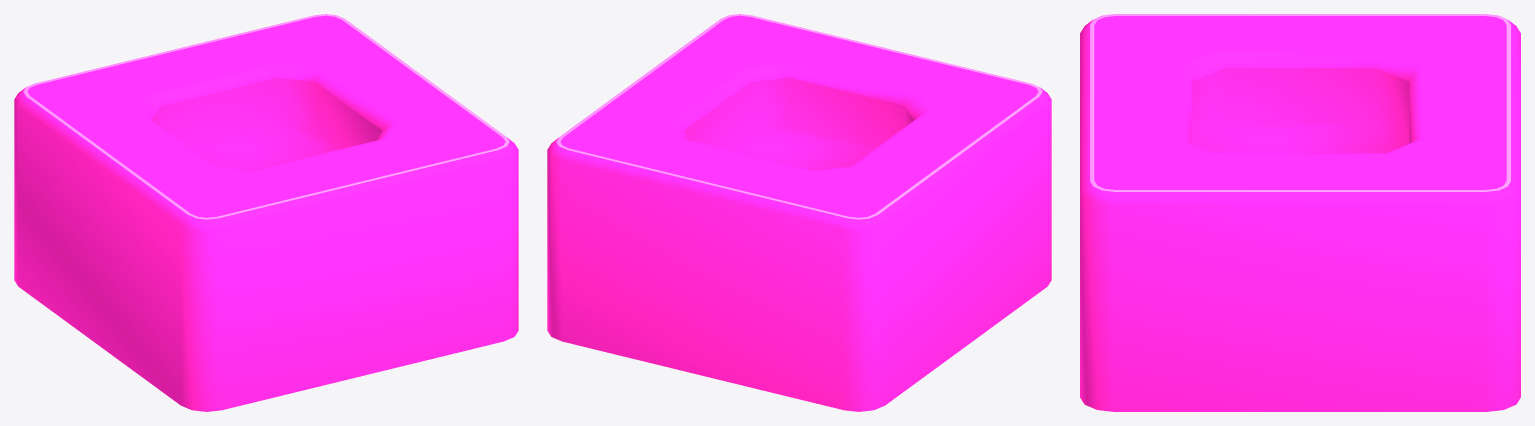
The model's file is cell_magenta.glb.
3 renders of one model, left to right at view 1: azimuth 30°, elevation 25°; view 2: azimuth 150°, elevation 25°; view 3: azimuth 270°, elevation 25°, orthographic. The views are drawn at different scales.
Parts seen in each view (by area): view 1: cell_magenta; view 2: cell_magenta; view 3: cell_magenta.
Boxes of the visible parts, x1,y1,x2,y2 form: cell_magenta: (14,14,518,411); cell_magenta: (547,14,1051,411); cell_magenta: (1080,14,1520,411).
Bounding box in the file's own units: 1 × 0.54 × 1.
Materials: 1 (1 with a texture image).
